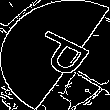P_SE: (16, 26, 94, 84)
